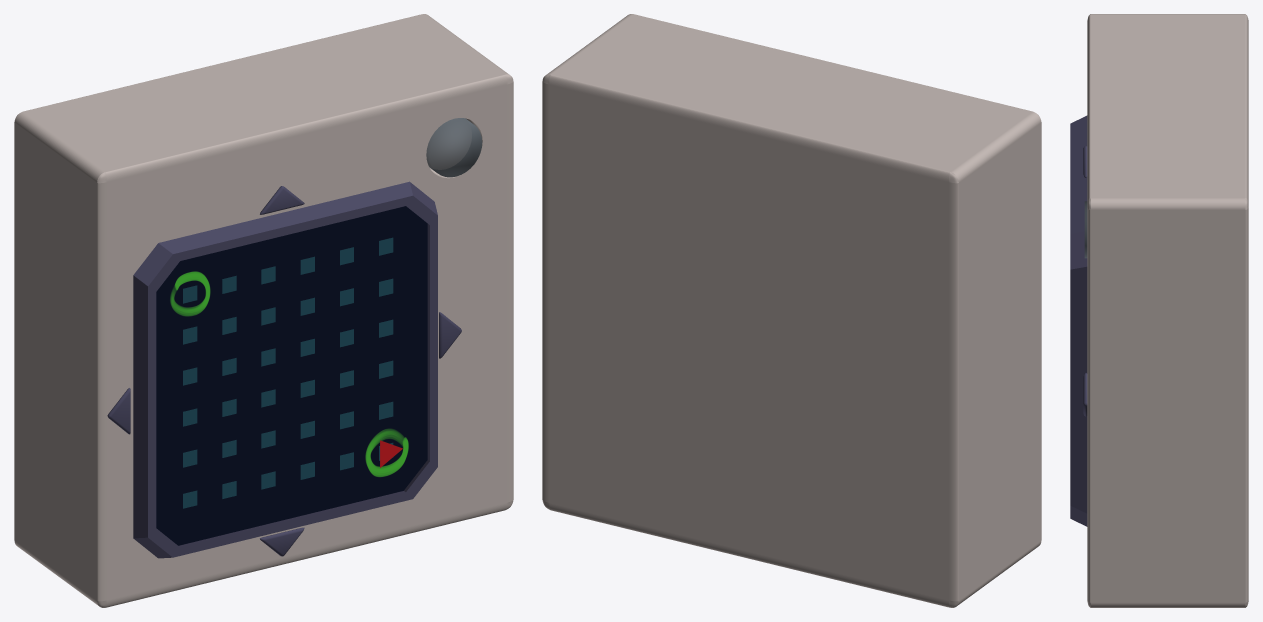
Rendered from maze.glb.
3 renders of one model, left to right at view 1: azimuth 30°, elevation 25°; view 2: azimuth 150°, elevation 25°; view 3: azimuth 270°, elevation 25°, orthographic. The views are drawn at different scales.
Parts seen in each view (by area): view 1: MazeModule, Maze.Backplate, Maze.Shell, Light.010, Maze.MarkerB, Maze.MarkerA; view 2: MazeModule; view 3: MazeModule, Maze.Shell.
Boxes of the visible parts, bbox=[...] form: MazeModule: bbox=[14, 14, 513, 607]; Maze.Backplate: bbox=[156, 206, 427, 545]; Maze.Shell: bbox=[133, 181, 437, 558]; Light.010: bbox=[426, 118, 482, 177]; Maze.MarkerB: bbox=[365, 428, 408, 476]; Maze.MarkerA: bbox=[170, 271, 210, 316]; MazeModule: bbox=[542, 14, 1041, 607]; MazeModule: bbox=[1087, 14, 1248, 607]; Maze.Shell: bbox=[1070, 115, 1087, 526].
Bounding box in the file's own units: 0.1761 × 0.1761 × 0.0696.
Materials: 8 (3 with a texture image).
